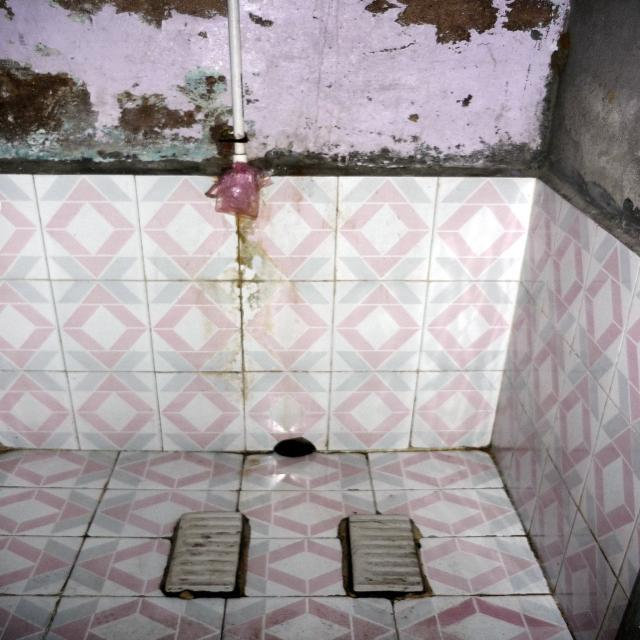dirty_floor: (1, 169, 637, 638), (0, 446, 575, 638), (1, 0, 571, 173), (362, 0, 559, 46), (159, 508, 250, 599), (336, 512, 428, 599)
